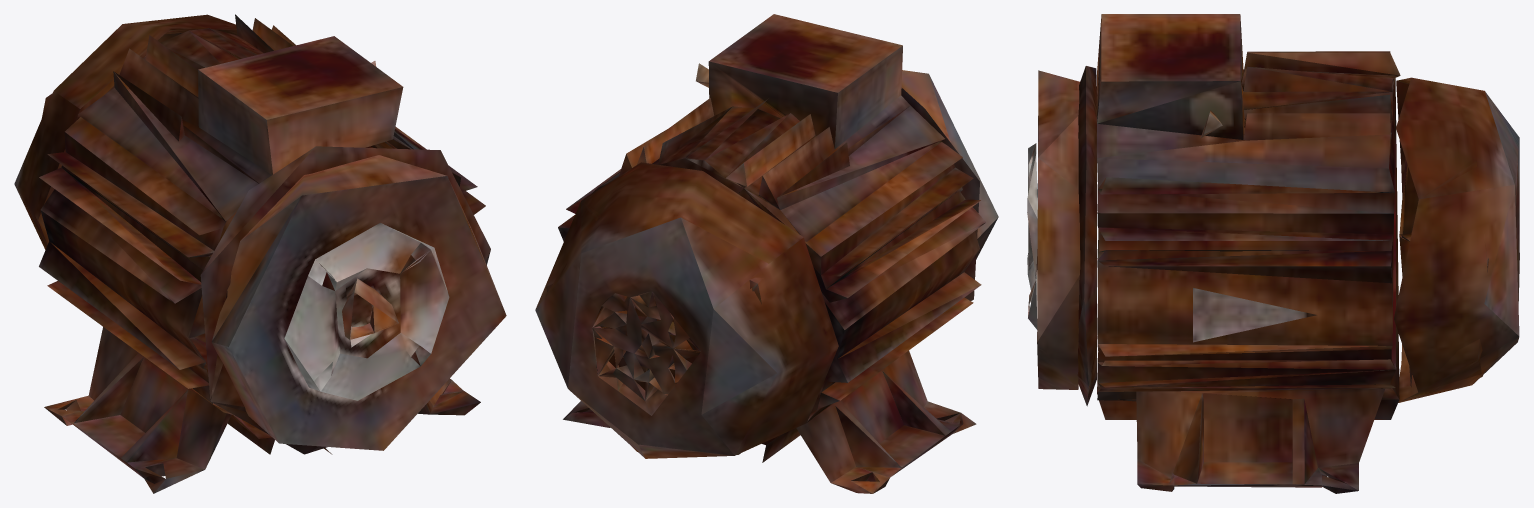
Rendered from electric_motor.glb.
3 renders of one model, left to right at view 1: azimuth 30°, elevation 25°; view 2: azimuth 150°, elevation 25°; view 3: azimuth 270°, elevation 25°, orthographic. The views are drawn at different scales.
Visible parts, largest first — view 1: electric_motor; view 2: electric_motor; view 3: electric_motor.
Part boxes in pixels (left/top/right/bottom): electric_motor: left=14, top=14, right=506, bottom=493; electric_motor: left=535, top=14, right=998, bottom=493; electric_motor: left=1027, top=14, right=1519, bottom=493.
Size of what is drawn, in the model's own units: 0.19 by 0.2019 by 0.2444.
Materials: 1 (1 with a texture image).
